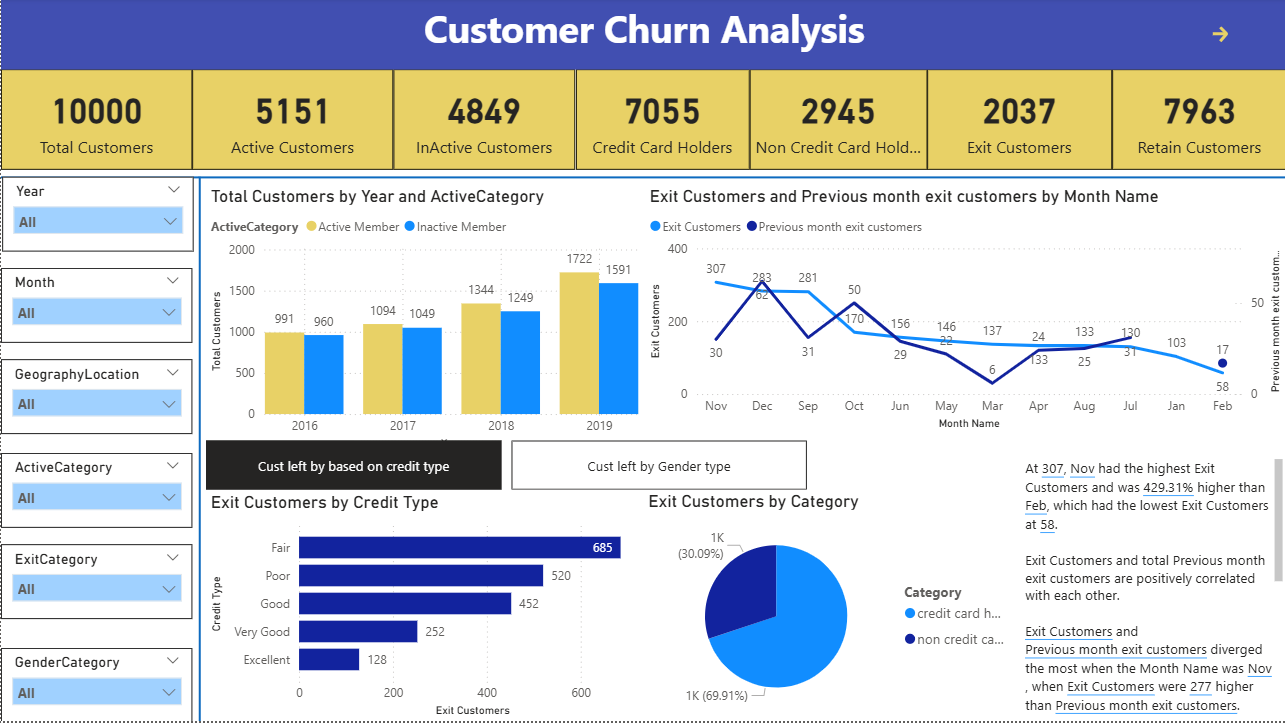

The page's visual inventory and layout, read from the dashboard file:
{"tool":"powerbi","page":{"name":"Home Page","canvas":[1280,720],"ordinal":0},"visuals":[{"type":"card","fields":{"Values":["Caluculations.Total Customers"]},"box":[0,71.4,190.7,100.2],"z":0},{"type":"card","fields":{"Values":["Caluculations.Active Customers"]},"box":[190.7,71.4,200.3,100.2],"z":1000},{"type":"card","fields":{"Values":["Caluculations.InActive Customers"]},"box":[391.1,71.4,181.1,100.2],"z":2000},{"type":"card","fields":{"Values":["Caluculations.Credit Card Holders"]},"box":[572.2,71.4,172.9,100.2],"z":3000},{"type":"card","fields":{"Values":["Caluculations.Non Credit Card Holders"]},"box":[745.1,71.4,177,100.2],"z":4000},{"type":"card","fields":{"Values":["Caluculations.Exit Customers"]},"box":[922.1,71.4,183.9,100.2],"z":5000},{"type":"card","fields":{"Values":["Caluculations.Retain Customers"]},"box":[1106,71.4,174.3,100.2],"z":6000},{"type":"textbox","box":[0,0,1280.3,71.4],"z":7000},{"type":"shape","box":[0,171.5,1280.3,13.7],"z":8000},{"type":"shape","box":[191.6,177.9,12.4,542.4],"z":9000},{"type":"slicer","fields":{"Values":["DateMaster.Month"]},"box":[0,269,190.7,74.1],"z":10000},{"type":"slicer","fields":{"Values":["Geography.GeographyLocation"]},"box":[0,359.5,190.7,74.1],"z":11000},{"type":"slicer","fields":{"Values":["ActiveCustomer.ActiveCategory"]},"box":[0,452.8,190.7,74.1],"z":12000},{"type":"slicer","fields":{"Values":["ExitCustomer.ExitCategory"]},"box":[0,543.4,190.7,74.1],"z":13000},{"type":"slicer","fields":{"Values":["Gender.GenderCategory"]},"box":[0,646.3,190.7,74.1],"z":14000},{"type":"slicer","fields":{"Values":["DateMaster.Year"]},"box":[1.4,178.4,190.7,74.1],"z":15000},{"type":"clusteredColumnChart","fields":{"Category":["DateMaster.Year","DateMaster.Month Name"],"Y":["Caluculations.Total Customers"],"Series":["ActiveCustomer.ActiveCategory"]},"box":[204,186.6,435.4,267.5],"z":16000},{"type":"lineChart","fields":{"Y2":["Caluculations.Previous month exit customers"],"Category":["DateMaster.Month Name"],"Y":["Caluculations.Exit Customers"]},"box":[640.6,186.6,639.4,247.5],"z":17000},{"type":"clusteredBarChart","fields":{"Category":["Bank_Churn.Credit Type"],"Y":["Caluculations.Exit Customers"]},"box":[204.3,491.8,453.7,228.6],"z":19000},{"type":"pieChart","fields":{"Category":["CreditCard.Category"],"Y":["Caluculations.Exit Customers"]},"box":[639.4,490.1,374.4,230.1],"z":20000},{"type":"textbox","box":[1013.8,454,266.2,266.2],"z":21000},{"type":"bookmarkNavigator","box":[204,440.4,599.6,49.8],"z":22000},{"type":"actionButton","box":[1193,16.2,52.2,39.8],"z":22001}]}

Visuals, with their boxes in screenshot pixels (x1, y1, x2, y2), scaled from the page's 1280x720 canvas onto the 1285x725 screenshot:
card - Caluculations.Total Customers: box=[0, 72, 191, 173]
card - Caluculations.Active Customers: box=[191, 72, 393, 173]
card - Caluculations.InActive Customers: box=[393, 72, 574, 173]
card - Caluculations.Credit Card Holders: box=[574, 72, 748, 173]
card - Caluculations.Non Credit Card Holders: box=[748, 72, 926, 173]
card - Caluculations.Exit Customers: box=[926, 72, 1110, 173]
card - Caluculations.Retain Customers: box=[1110, 72, 1284, 173]
textbox: box=[0, 0, 1284, 72]
shape: box=[0, 173, 1284, 186]
shape: box=[192, 179, 205, 724]
slicer - DateMaster.Month: box=[0, 271, 191, 345]
slicer - Geography.GeographyLocation: box=[0, 362, 191, 437]
slicer - ActiveCustomer.ActiveCategory: box=[0, 456, 191, 531]
slicer - ExitCustomer.ExitCategory: box=[0, 547, 191, 622]
slicer - Gender.GenderCategory: box=[0, 651, 191, 724]
slicer - DateMaster.Year: box=[1, 180, 193, 254]
clusteredColumnChart - DateMaster.Year x DateMaster.Month Name: box=[205, 188, 642, 457]
lineChart - Caluculations.Previous month exit customers x DateMaster.Month Name: box=[643, 188, 1284, 437]
clusteredBarChart - Bank_Churn.Credit Type x Caluculations.Exit Customers: box=[205, 495, 661, 724]
pieChart - CreditCard.Category x Caluculations.Exit Customers: box=[642, 494, 1018, 724]
textbox: box=[1018, 457, 1284, 724]
bookmarkNavigator: box=[205, 443, 807, 494]
actionButton: box=[1198, 16, 1250, 56]
